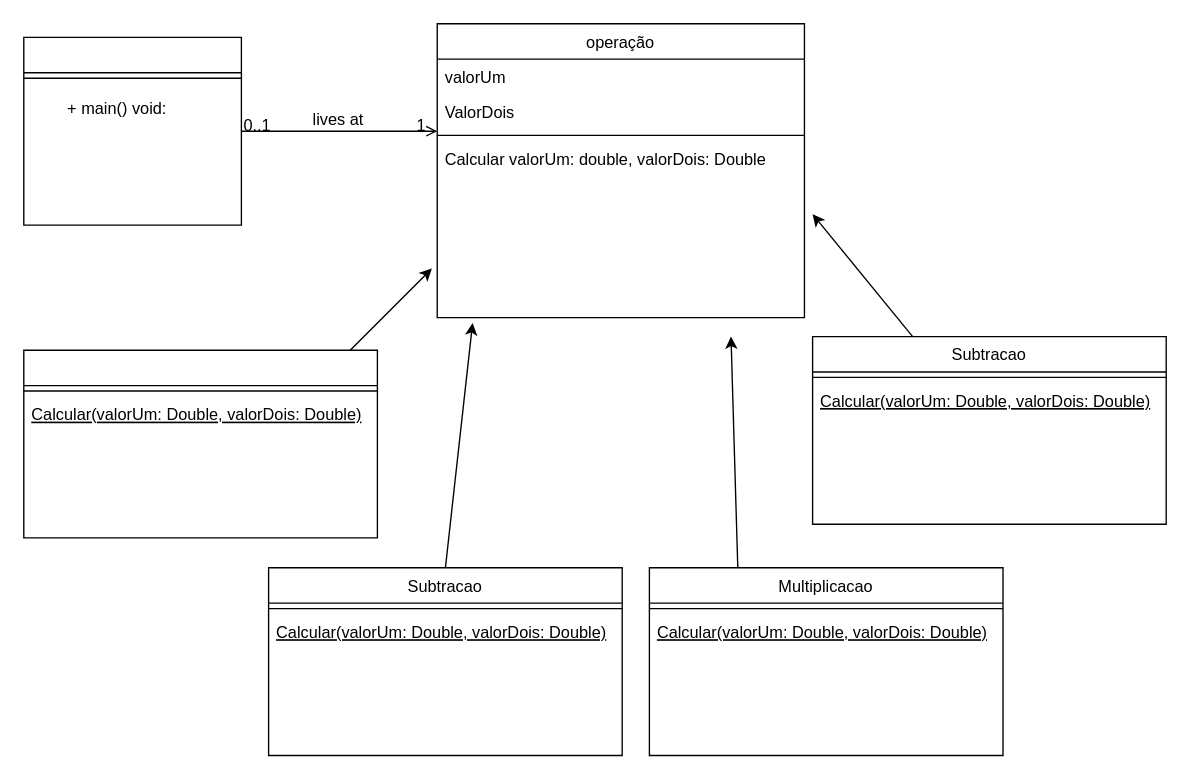
Image size: 1190x779. Some labels were removed from this diagram. The shapes that lost their labels are listed below. From the top down, each one's box as (x1, y1, x2, y2) in pixels, then its label:
(22, 36, 241, 225): Calculadora
(22, 349, 377, 538): Adicao
